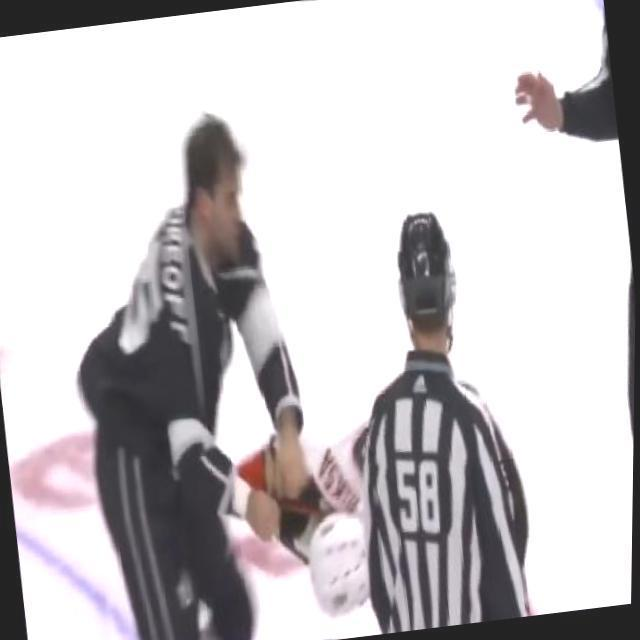fight: (39, 82, 416, 640)
